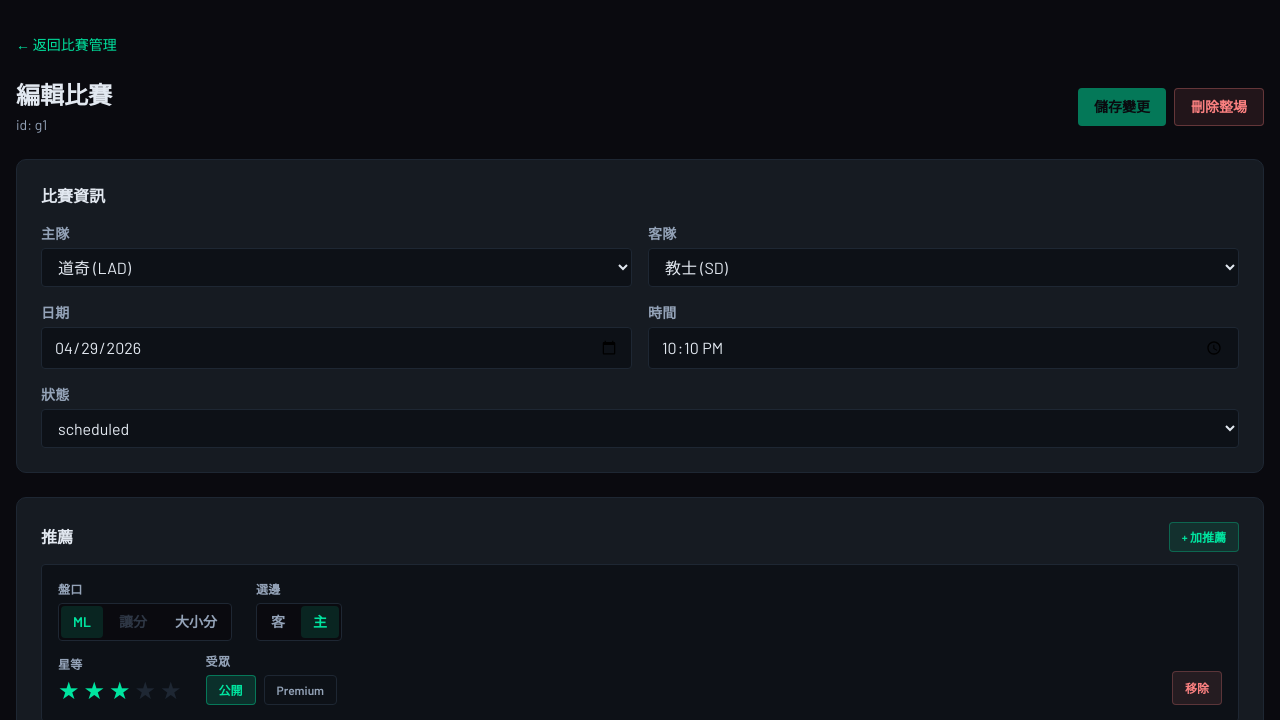
Test case: EditGamePage — form mode › clicking 移除 on a rec marks it for deletion (replaces with 取消刪除)
This screenshot has width=1280, height=720.
Click the button "移除" at coordinates (1197, 688), box [1172,671,1222,705]
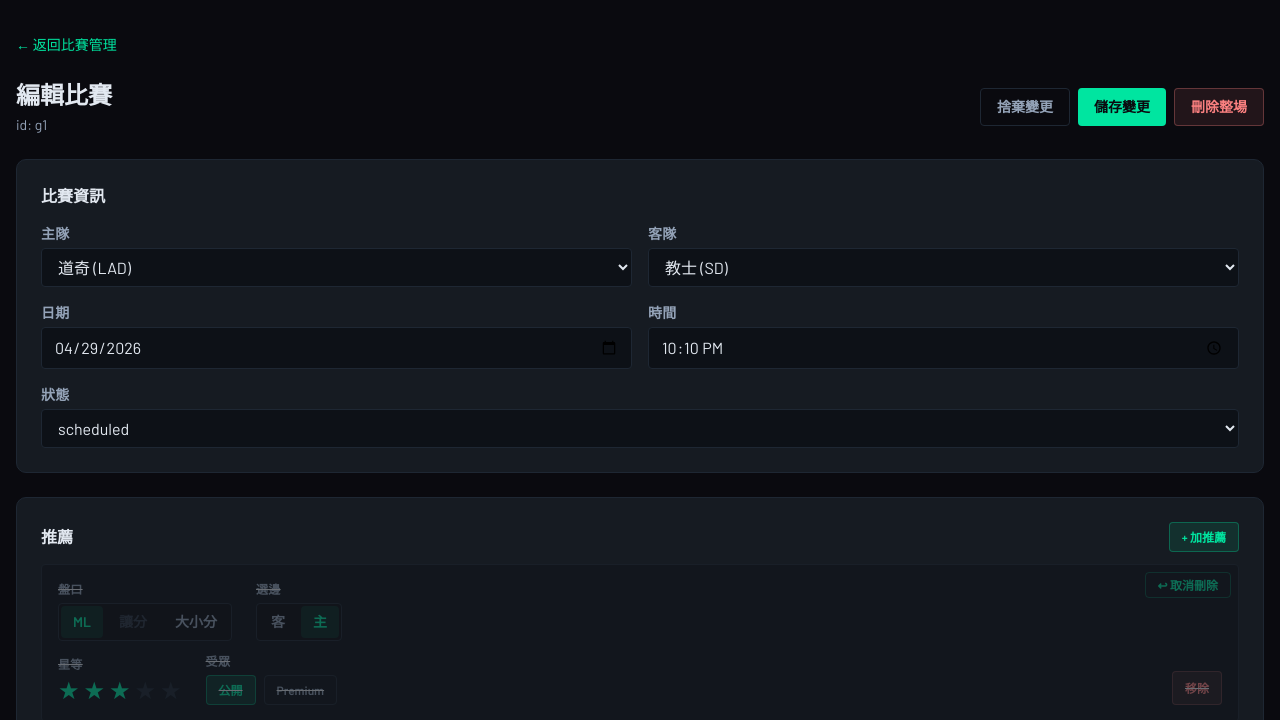
Now the button "↩ 取消刪除" is shown, box [1144,572,1231,598]
